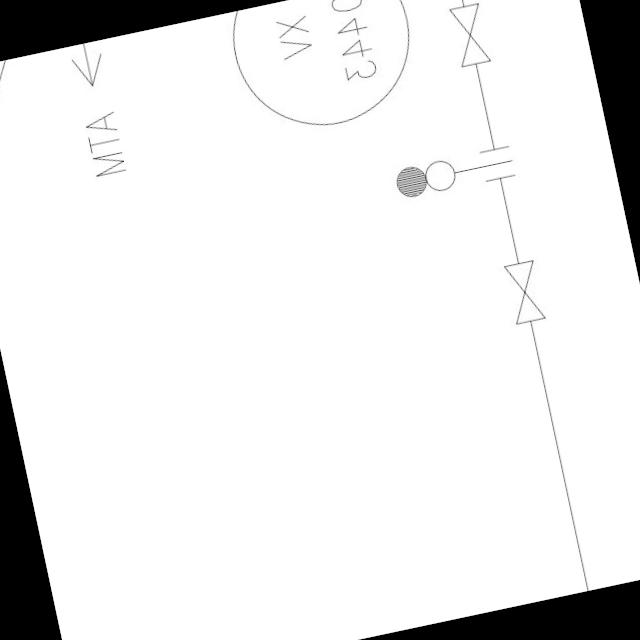GV: (498, 252, 547, 330), (443, 0, 492, 73)
